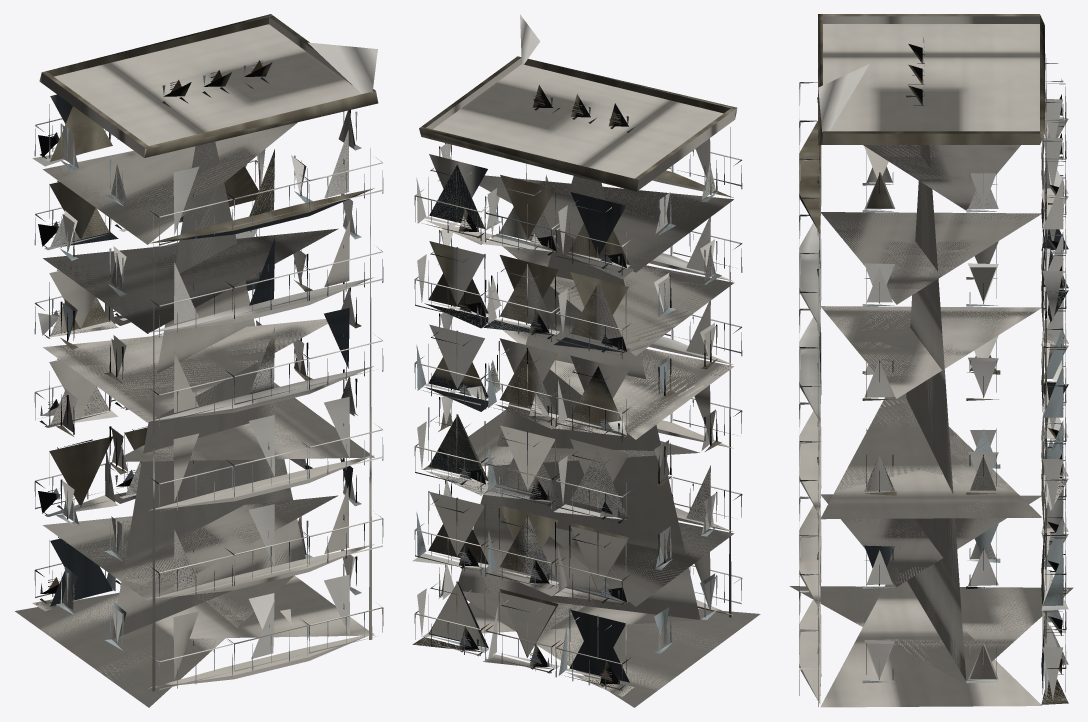
File: residential_008.lod2.obj
The picture shows the model from 3 angles, left to right: view 1: azimuth 30°, elevation 25°; view 2: azimuth 150°, elevation 25°; view 3: azimuth 270°, elevation 25°; orthographic projection. The views are drawn at different scales.
Parts seen in each view (by area): view 1: residential_008; view 2: residential_008; view 3: residential_008.
Boxes of the visible parts, left/top/right/bottom form: residential_008: left=15, top=14, right=383, bottom=707; residential_008: left=412, top=14, right=760, bottom=707; residential_008: left=789, top=14, right=1073, bottom=707.
Bounding box in the file's own units: 8.8 × 20.05 × 8.27.
1 material, 1 textured.
